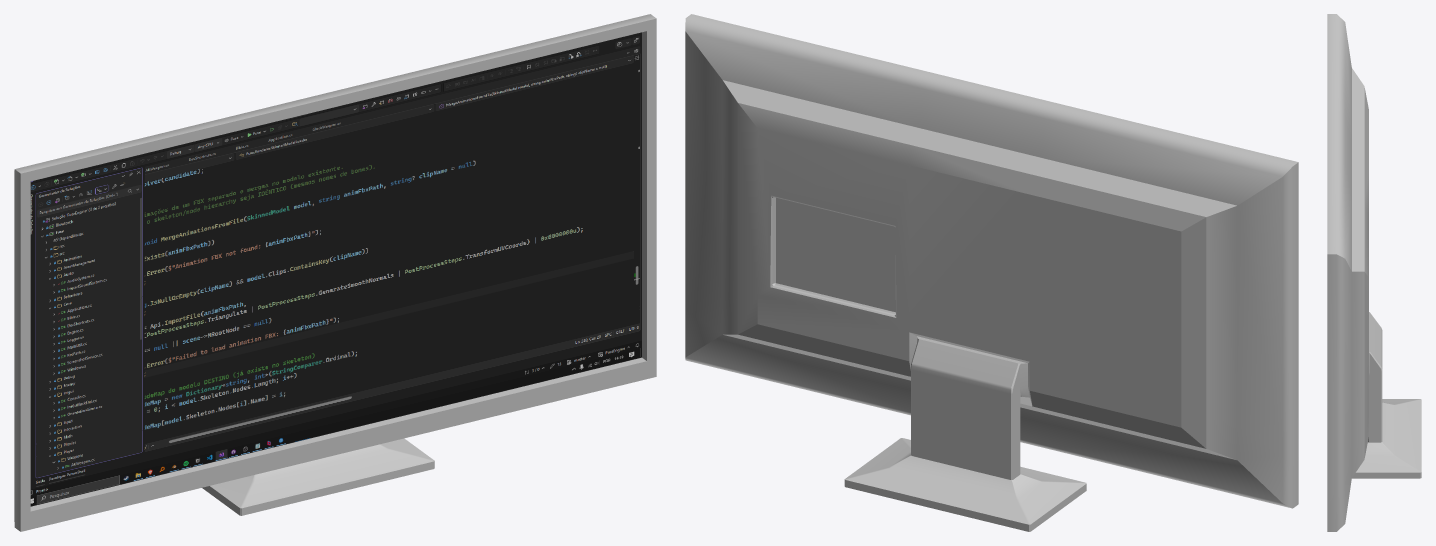
The picture shows the model from 3 angles, left to right: view 1: azimuth 30°, elevation 25°; view 2: azimuth 150°, elevation 25°; view 3: azimuth 270°, elevation 25°; orthographic projection. The views are drawn at different scales.
Parts seen in each view (by area): view 1: led_tv; view 2: led_tv; view 3: led_tv.
Boxes of the visible parts, x1,y1,x2,y2 form: led_tv: (14, 14, 656, 531); led_tv: (685, 14, 1298, 531); led_tv: (1327, 14, 1421, 531).
Bounding box in the file's own units: 2.01 × 1.2 × 0.3334.
